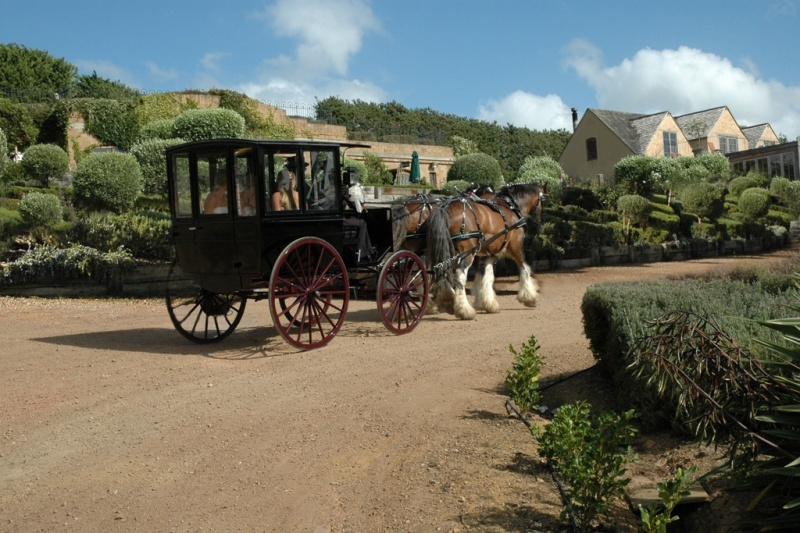horse: (417, 176, 551, 321)
